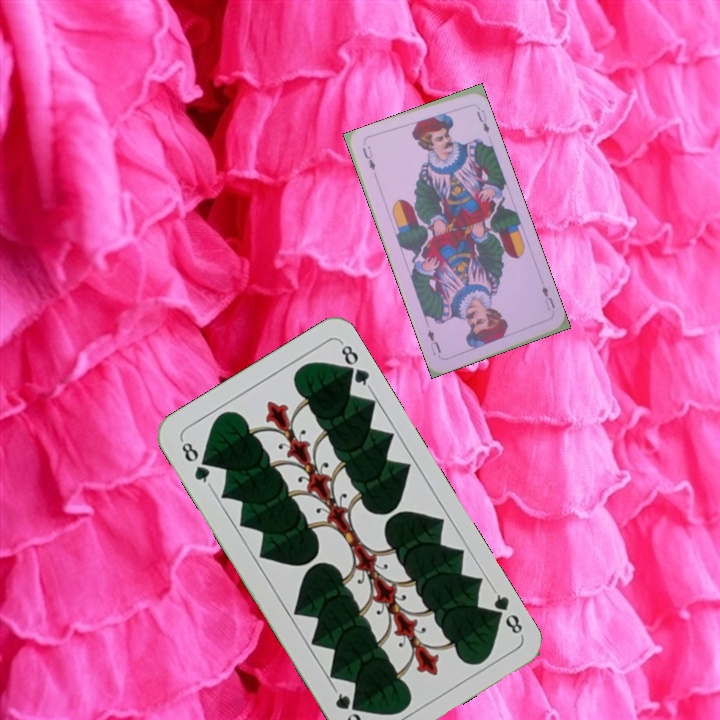EU: (358, 142, 378, 173), (538, 282, 557, 313)
G8: (486, 585, 526, 637), (177, 435, 214, 489)
